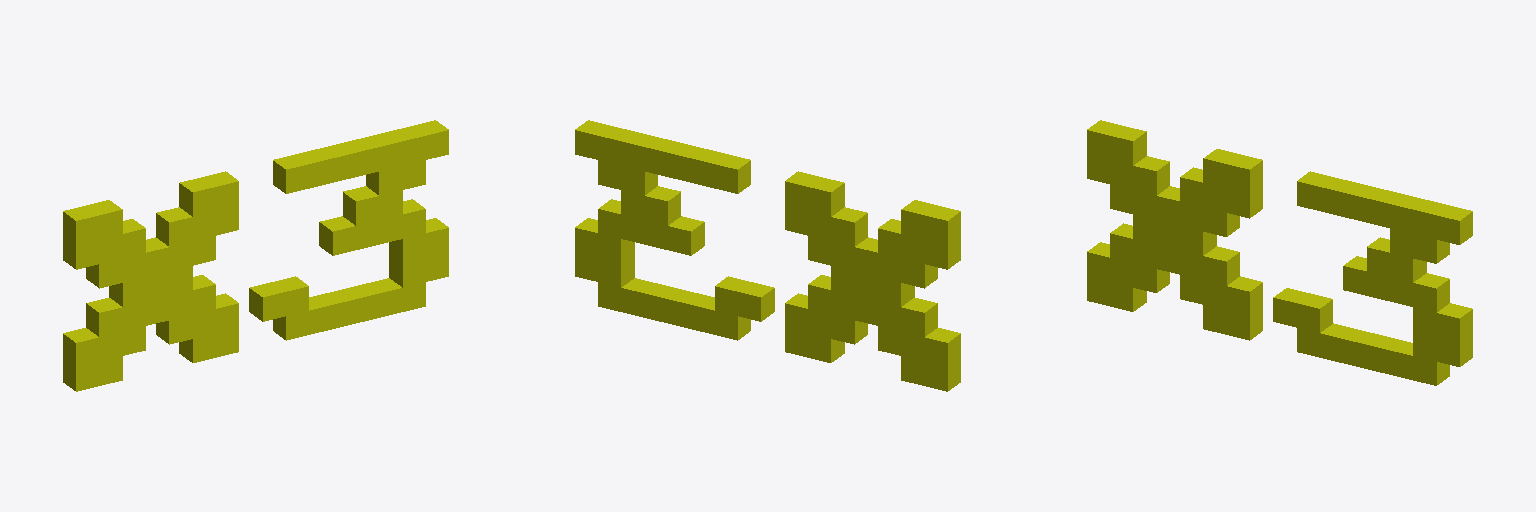
The picture shows the model from 3 angles: view 1: azimuth 30°, elevation 25°; view 2: azimuth 150°, elevation 25°; view 3: azimuth 330°, elevation 25°; orthographic projection.
Parts seen in each view (by area): view 1: object 1; view 2: object 1; view 3: object 1.
Part boxes in pixels (x1,y1,x2,y2): object 1: (63, 120, 448, 391); object 1: (575, 120, 960, 391); object 1: (1087, 120, 1472, 385).
Size of the model in its own units: 1.6 by 0.7 by 0.1.
Materials: 1 (1 with a texture image).